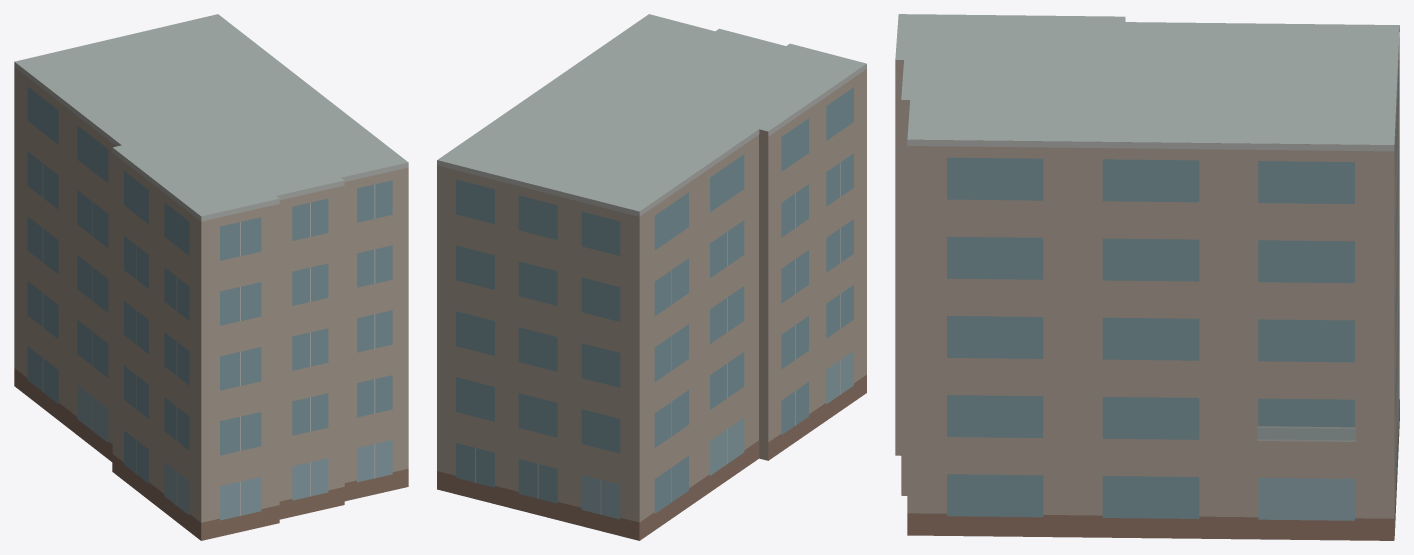
The model's file is survey-upis-32910326.glb.
The picture shows the model from 3 angles, left to right: view 1: azimuth 30°, elevation 25°; view 2: azimuth 150°, elevation 25°; view 3: azimuth 270°, elevation 25°; orthographic projection. The views are drawn at different scales.
Parts seen in each view (by area): view 1: survey-upis-32910326.tmp; view 2: survey-upis-32910326.tmp; view 3: survey-upis-32910326.tmp.
Boxes of the visible parts, left/top/right/bottom form: survey-upis-32910326.tmp: left=14, top=14, right=408, bottom=540; survey-upis-32910326.tmp: left=437, top=14, right=866, bottom=540; survey-upis-32910326.tmp: left=895, top=14, right=1399, bottom=540.
Bounding box in the file's own units: 10.87 × 15.3 × 17.68.
